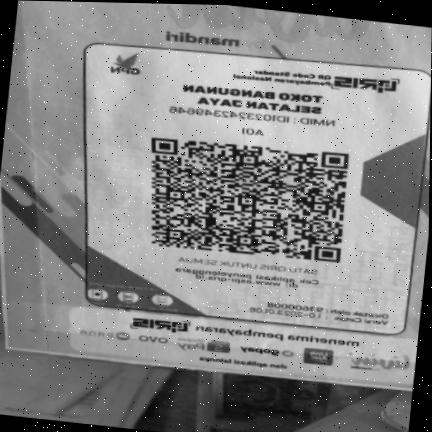Qris-Positioning: (85, 44, 431, 334)
